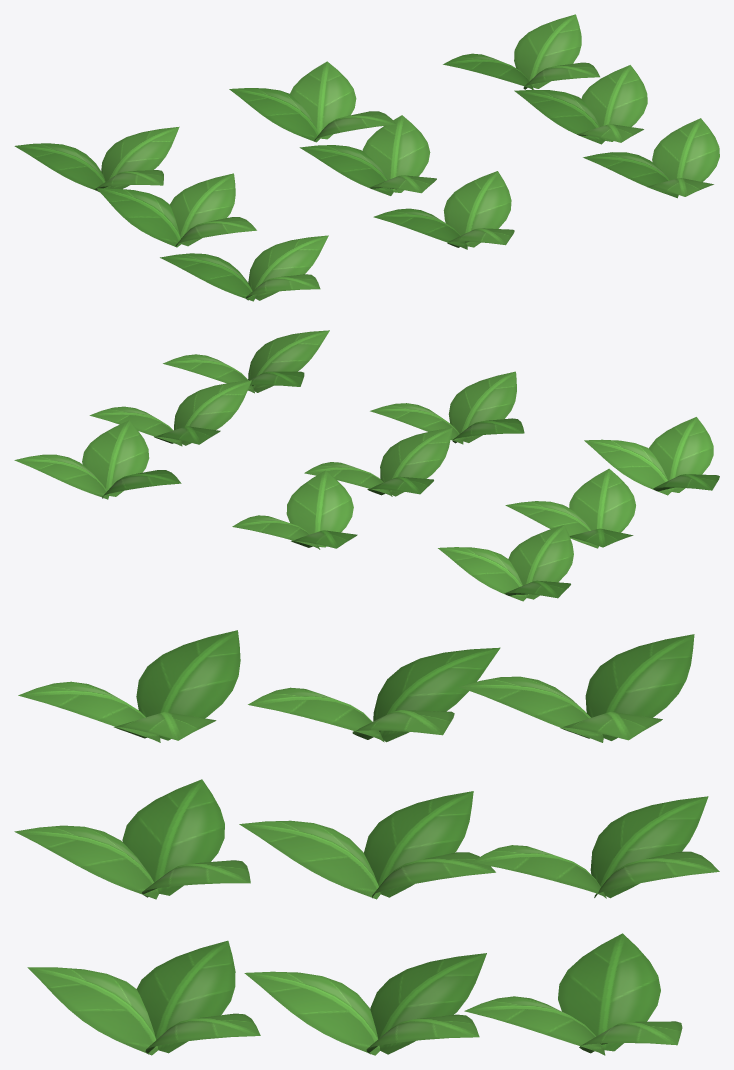
The model's file is crop_young.glb.
3 renders of one model, top to bottom at view 1: azimuth 30°, elevation 25°; view 2: azimuth 150°, elevation 25°; view 3: azimuth 270°, elevation 25°, orthographic. The views are drawn at different scales.
Parts seen in each view (by area): view 1: Crop_leaf; view 2: Crop_leaf; view 3: Crop_leaf.
Boxes of the visible parts, left/top/right/bottom form: Crop_leaf: left=14, top=14, right=719, bottom=301; Crop_leaf: left=14, top=330, right=719, bottom=601; Crop_leaf: left=14, top=630, right=719, bottom=1055.
Bounding box in the file's own units: 1.33 × 0.0851 × 0.9536.
Materials: 1 (1 with a texture image).
